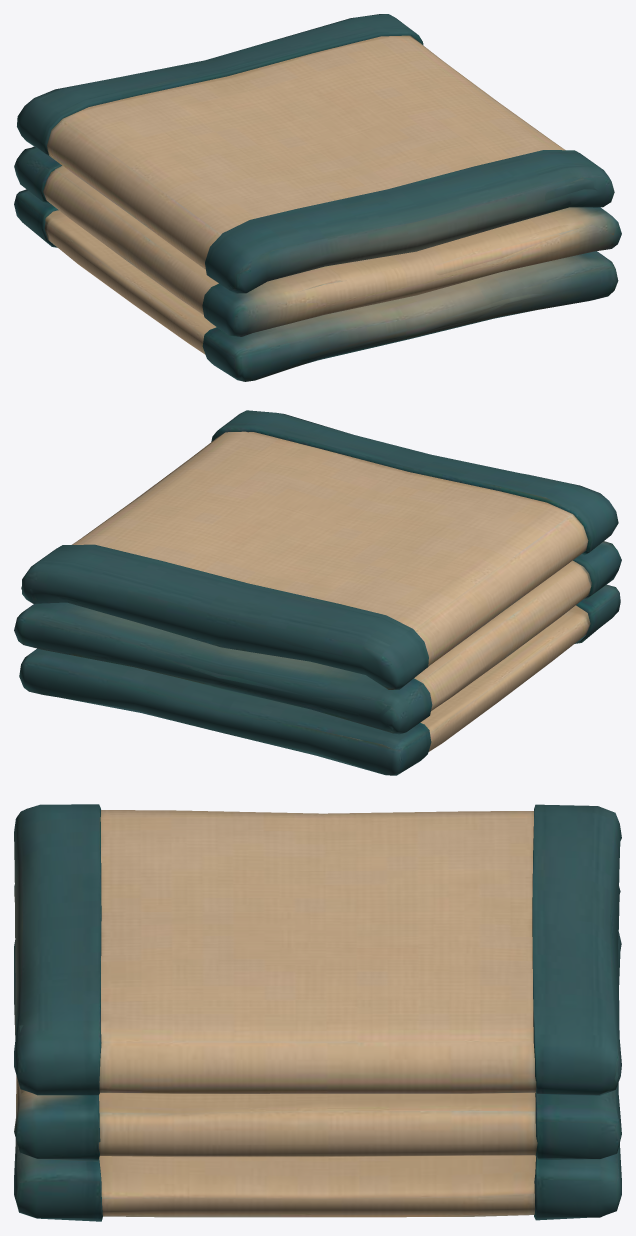
File: cloth.glb
The picture shows the model from 3 angles, top to bottom: view 1: azimuth 30°, elevation 25°; view 2: azimuth 150°, elevation 25°; view 3: azimuth 270°, elevation 25°; orthographic projection. The views are drawn at different scales.
Visible parts, largest first — view 1: cloth; view 2: cloth; view 3: cloth.
Part boxes in pixels (left/top/right/bottom): cloth: left=14, top=14, right=621, bottom=381; cloth: left=14, top=410, right=621, bottom=775; cloth: left=14, top=804, right=621, bottom=1221.
Bounding box in the file's own units: 0.3 × 0.1072 × 0.3.
Materials: 1 (1 with a texture image).
